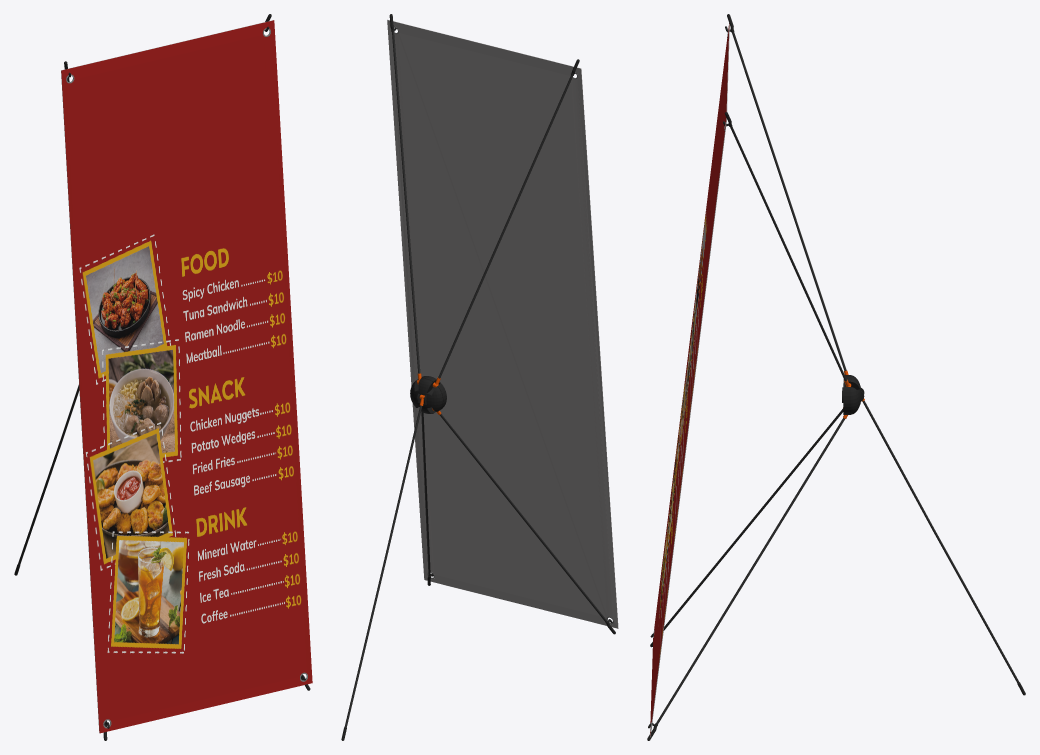
The model's file is xbanner.gltf.
3 renders of one model, left to right at view 1: azimuth 30°, elevation 25°; view 2: azimuth 150°, elevation 25°; view 3: azimuth 270°, elevation 25°, orthographic. The views are drawn at different scales.
Visible parts, largest first — view 1: Poster-material, Poster_back-material, StandMetal-material; view 2: Poster_back-material, StandMetal-material.001, PlasticBlack-material.005, StandMetal-material, StandMetal-material.002, StandMetal-material.003, StandMetal-material.004; view 3: Poster-material, StandMetal-material.002, StandMetal-material.004, StandMetal-material, Poster_back-material, StandMetal-material.001, StandMetal-material.003, PlasticBlack-material.005.
Boxes of the visible parts, x1,y1,x2,y2 form: Poster-material: [61, 20, 312, 733]; Poster_back-material: [61, 20, 273, 732]; StandMetal-material: [17, 385, 79, 566]; Poster_back-material: [387, 19, 618, 628]; StandMetal-material.001: [392, 31, 420, 373]; PlasticBlack-material.005: [410, 376, 446, 413]; StandMetal-material: [344, 405, 422, 727]; StandMetal-material.002: [438, 75, 572, 378]; StandMetal-material.003: [439, 414, 607, 622]; StandMetal-material.004: [421, 412, 430, 576]; Poster-material: [650, 23, 729, 735]; StandMetal-material.002: [732, 32, 846, 370]; StandMetal-material.004: [656, 418, 844, 724]; StandMetal-material: [862, 400, 1019, 683]; Poster_back-material: [650, 24, 729, 737]; StandMetal-material.001: [730, 126, 847, 381]; StandMetal-material.003: [663, 408, 843, 630]; PlasticBlack-material.005: [842, 375, 864, 414].
Bounding box in the file's own units: 0.4405 × 1.29 × 0.6996.
6 materials, 1 textured.
